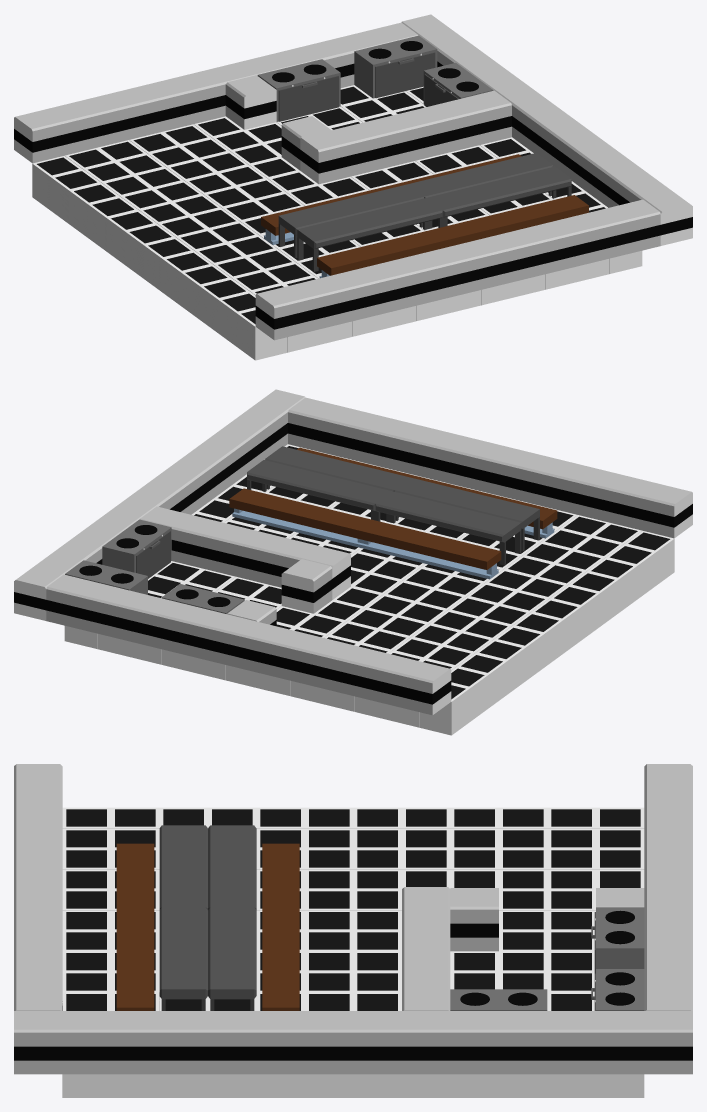
The model's file is kitchenMedium.fbx.
3 renders of one model, top to bottom at view 1: azimuth 30°, elevation 25°; view 2: azimuth 150°, elevation 25°; view 3: azimuth 270°, elevation 25°, orthographic. The views are drawn at different scales.
Visible parts, largest first — view 1: Cube.190, Cube.199, Cube.193, Cube.200, Cube.197, Cube.198, Cube.192, Cube.191, Cube.183, Cube.162, Cube.189, Cube.014 (+112 smaller); view 2: Cube.196, Cube.195, Cube.198, Cube.191, Cube.194, Cube.199, Cube.200, Cube.014, Cube.185, Cube.162, Cube.004, Cube.006 (+103 smaller); view 3: Cube.191, Cube.200, Cube.198, Cube.199, Cube.192, Cube.195, Cube.197, Cube.193, Cube.196, Cube.174, Cube.177, Cube.178 (+128 smaller).
Boxes of the visible parts, x1,y1,x2,y2 form: Cube.190: (354, 35, 437, 98); Cube.199: (297, 198, 442, 271); Cube.193: (257, 59, 340, 121); Cube.200: (426, 166, 571, 228); Cube.197: (317, 226, 459, 278); Cube.198: (278, 184, 424, 258); Cube.192: (446, 195, 588, 243); Cube.191: (408, 153, 552, 198); Cube.183: (225, 75, 276, 129); Cube.162: (255, 286, 306, 340); Cube.189: (300, 130, 350, 184); Cube.014: (14, 109, 64, 163); Cube.196: (358, 520, 501, 579); Cube.195: (229, 488, 372, 547); Cube.198: (375, 491, 521, 565); Cube.191: (247, 460, 391, 522); Cube.194: (102, 519, 171, 578); Cube.199: (394, 477, 539, 551); Cube.200: (265, 446, 410, 491); Cube.014: (400, 661, 451, 715); Cube.185: (281, 559, 332, 613); Cube.162: (642, 484, 692, 538); Cube.004: (78, 582, 127, 636); Cube.006: (110, 590, 159, 644); Cube.191: (208, 907, 256, 1010); Cube.200: (159, 907, 207, 1010); Cube.198: (208, 825, 256, 909); Cube.199: (159, 825, 207, 909); Cube.192: (116, 925, 154, 1010); Cube.195: (262, 925, 299, 1010); Cube.197: (116, 843, 154, 925); Cube.193: (591, 907, 644, 973); Cube.196: (262, 843, 299, 925); Cube.174: (62, 1011, 110, 1074); Cube.177: (159, 1011, 207, 1074); Cube.178: (353, 1011, 401, 1074).
Bounding box in the file's own units: 2602 × 403 × 2800.
